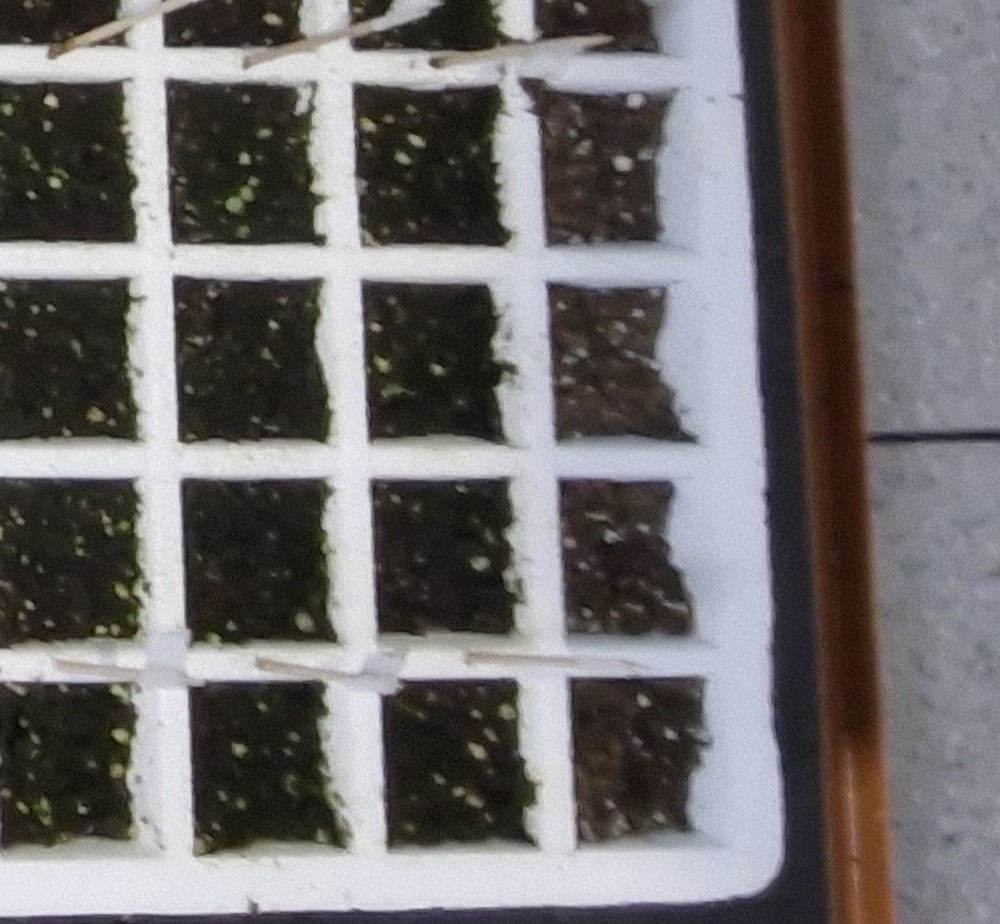Folha: (227, 196, 243, 213), (239, 185, 253, 202)
Germinacao: (227, 183, 257, 212)
